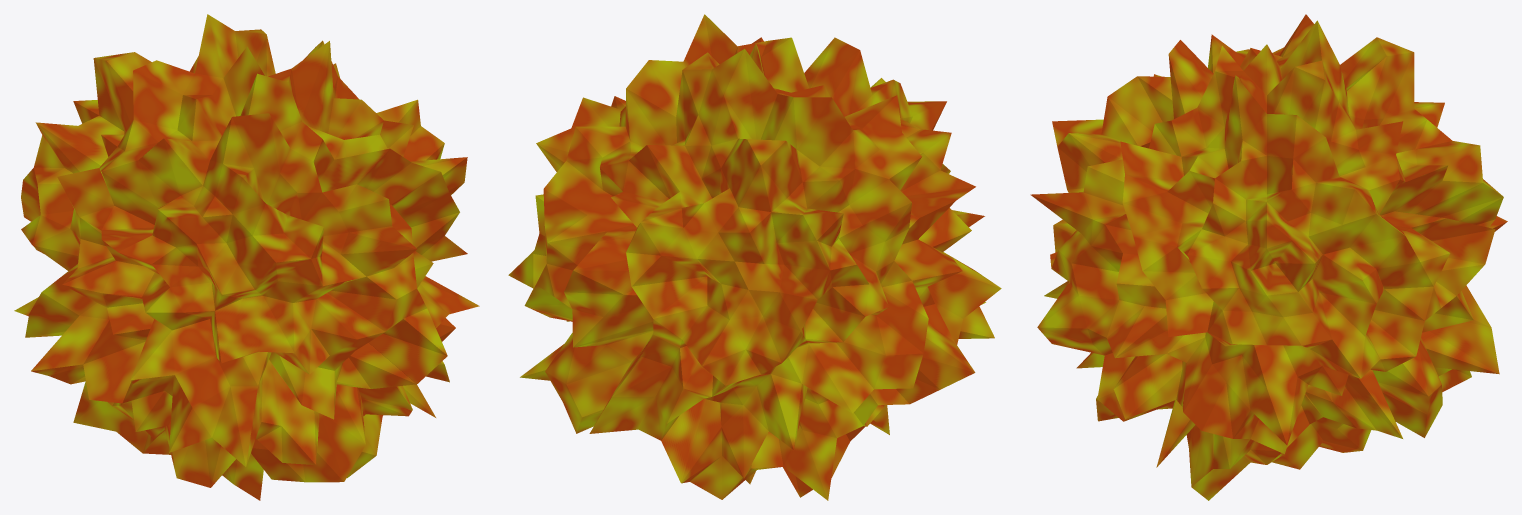
3 renders of one model, left to right at view 1: azimuth 30°, elevation 25°; view 2: azimuth 150°, elevation 25°; view 3: azimuth 270°, elevation 25°, orthographic. The views are drawn at different scales.
Visible parts, largest first — view 1: Explosion; view 2: Explosion; view 3: Explosion.
Boxes of the visible parts, box(x1,y1,x2,y2) form: Explosion: box(14, 14, 479, 500); Explosion: box(508, 14, 1001, 500); Explosion: box(1030, 14, 1507, 500).
Bounding box in the file's own units: 2.56 × 2.61 × 2.56.
1 material, 1 textured.
